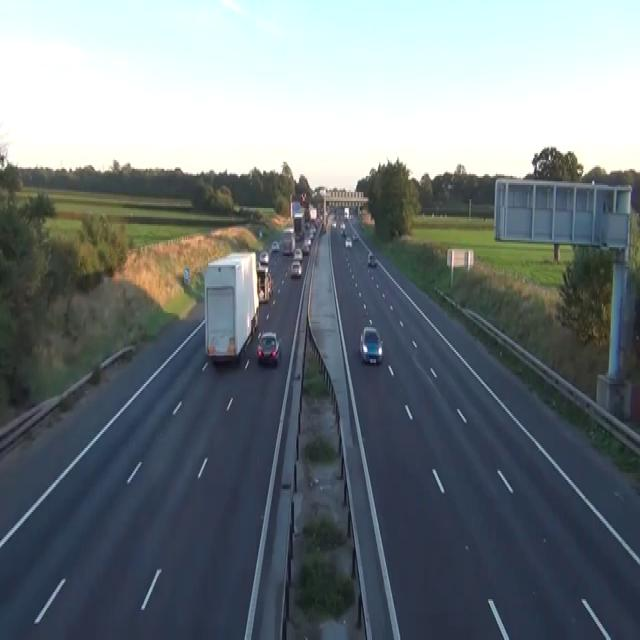Car: (359, 326, 383, 364), (256, 330, 280, 364), (290, 260, 301, 278), (281, 238, 292, 254), (259, 249, 268, 265), (367, 252, 377, 266), (293, 247, 303, 261), (183, 266, 190, 284), (271, 240, 279, 252), (301, 242, 309, 254), (344, 237, 352, 247), (339, 222, 345, 235), (300, 192, 306, 204), (309, 228, 315, 240), (295, 231, 303, 240), (352, 231, 358, 242), (321, 222, 326, 233), (306, 237, 311, 246), (307, 233, 312, 242), (258, 228, 262, 238), (332, 220, 336, 228), (349, 213, 353, 220)
Truck: (203, 250, 259, 362), (256, 265, 271, 302), (281, 228, 295, 254), (293, 210, 304, 240), (344, 206, 349, 219)
